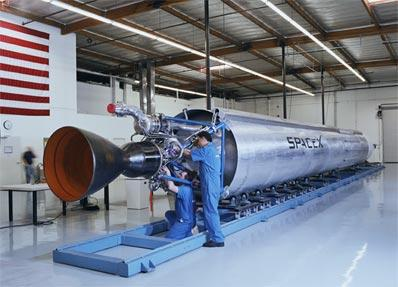body: (159, 105, 375, 199)
thruster: (42, 123, 126, 204)
